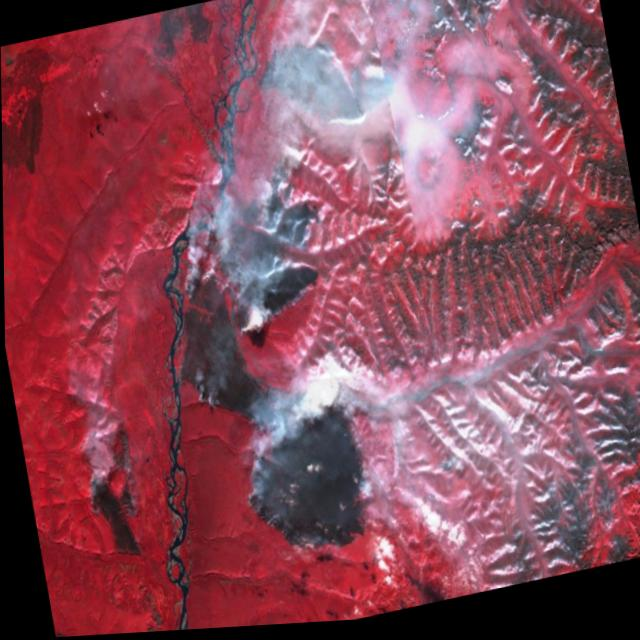fire: (136, 148, 384, 595), (67, 448, 153, 541), (422, 441, 467, 496)
